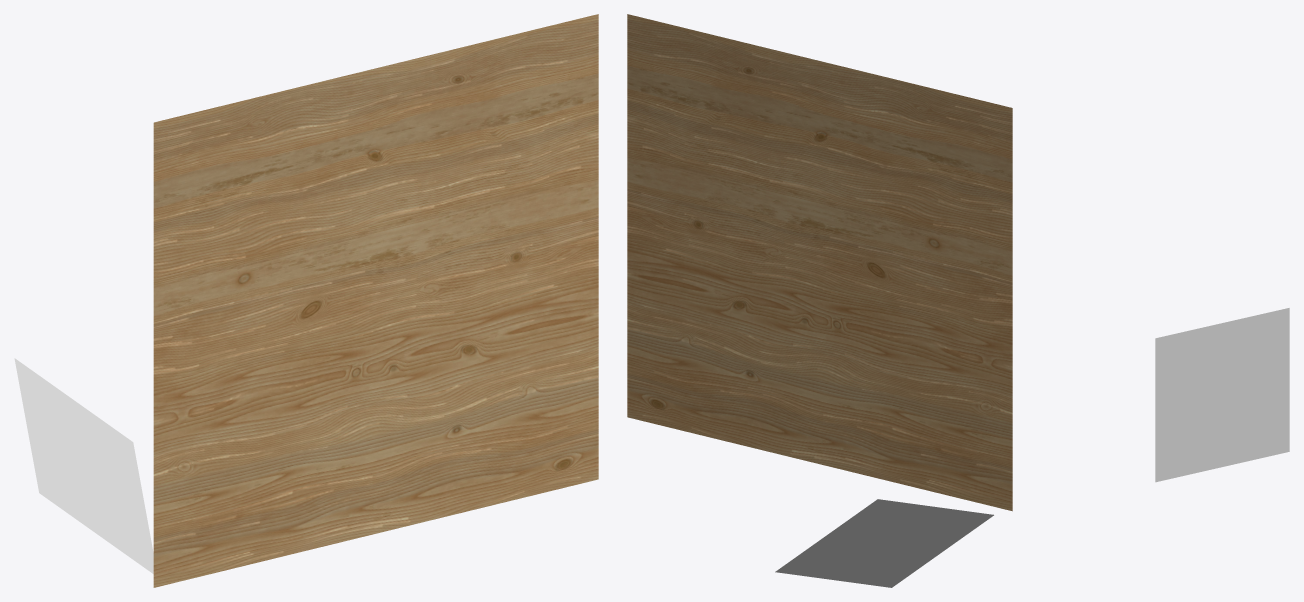
File: wood_plan.fbx
3 views of the same model, side by side, from view 1: azimuth 30°, elevation 25°; view 2: azimuth 150°, elevation 25°; view 3: azimuth 270°, elevation 25° (orthographic). The views are drawn at different scales.
Parts seen in each view (by area): view 1: plan, Plane; view 2: plan, Plane; view 3: Plane.
Part boxes in pixels (box(x1,y1,x2,y2)): plan: box(153, 14, 598, 587); Plane: box(14, 358, 153, 573); plan: box(627, 14, 1012, 511); Plane: box(775, 499, 993, 587); Plane: box(1155, 308, 1289, 482).
Bounding box in the file's own units: 221 × 224 × 115.
Materials: 2 (1 with a texture image).
